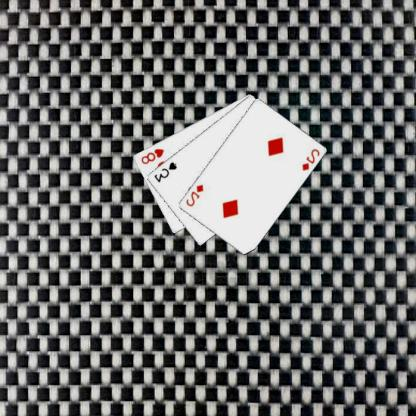2D: (185, 182, 206, 208), (301, 146, 322, 172)
3S: (153, 159, 180, 184)
8H: (140, 146, 167, 166)
